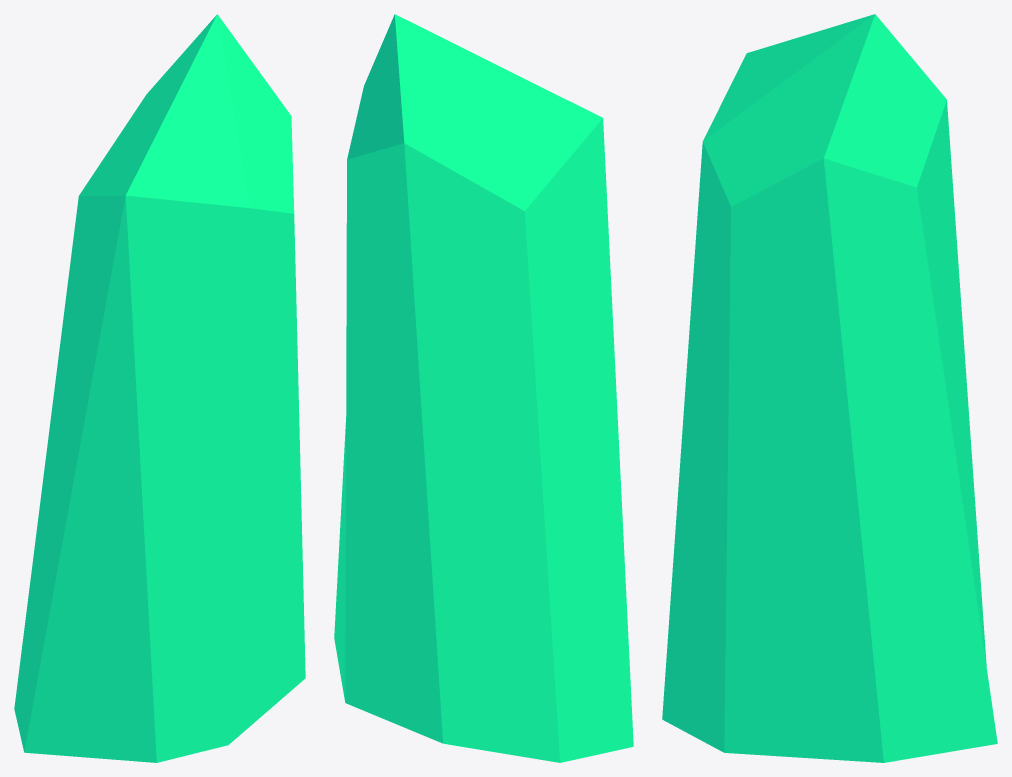
Rendered from crystal1.fbx.
The picture shows the model from 3 angles, left to right: view 1: azimuth 30°, elevation 25°; view 2: azimuth 150°, elevation 25°; view 3: azimuth 270°, elevation 25°; orthographic projection. The views are drawn at different scales.
Parts seen in each view (by area): view 1: crystal1; view 2: crystal1; view 3: crystal1.
Part boxes in pixels (x1,y1,x2,y2): crystal1: [14, 14, 305, 762]; crystal1: [334, 14, 633, 762]; crystal1: [662, 14, 997, 762].
Size of the model in its own units: 262 by 629 by 244.
